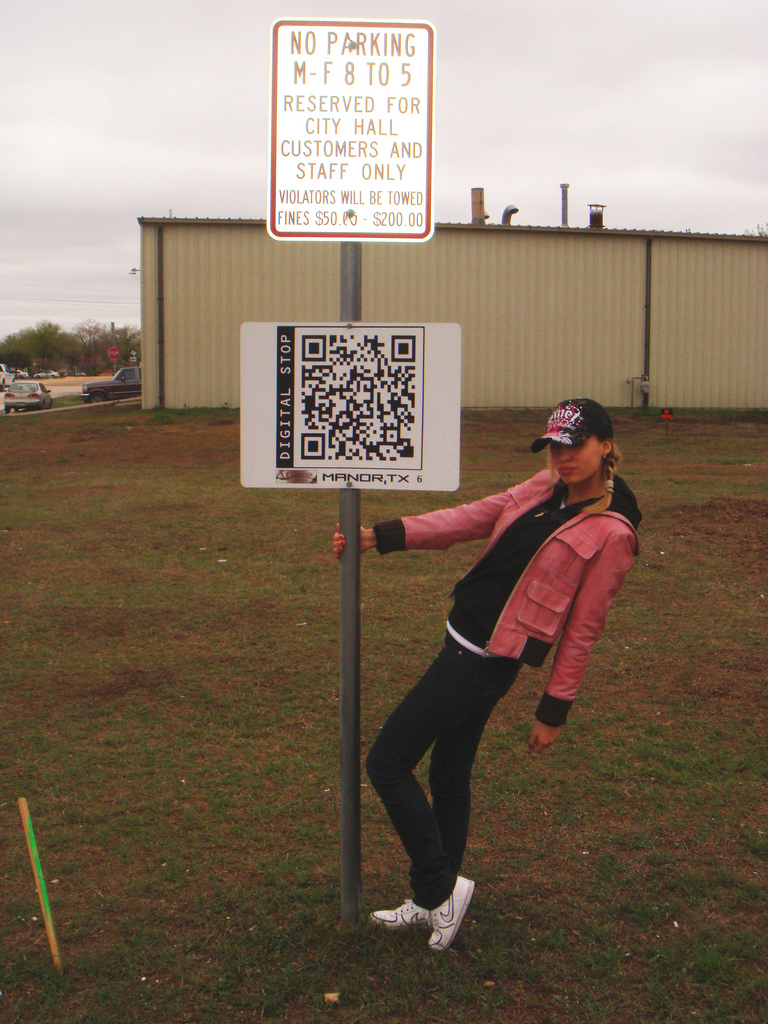QR-CODE: (301, 335, 415, 460)
